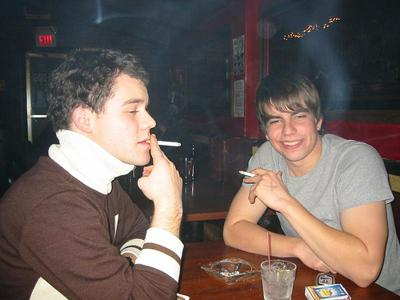person: (222, 72, 400, 299)
